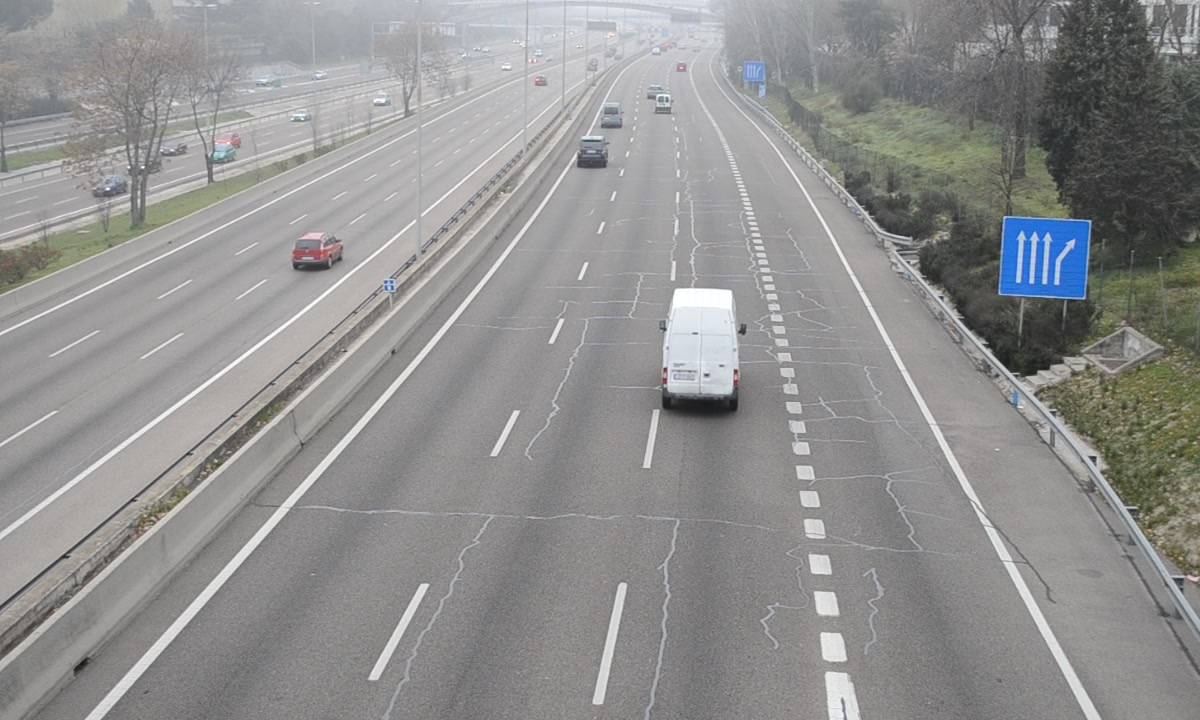car: (579, 136, 608, 168)
van: (661, 287, 738, 412), (600, 101, 620, 129)
